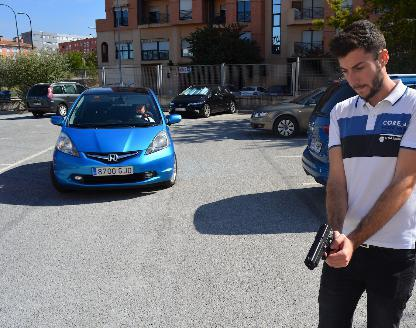pistol: (303, 221, 333, 268)
